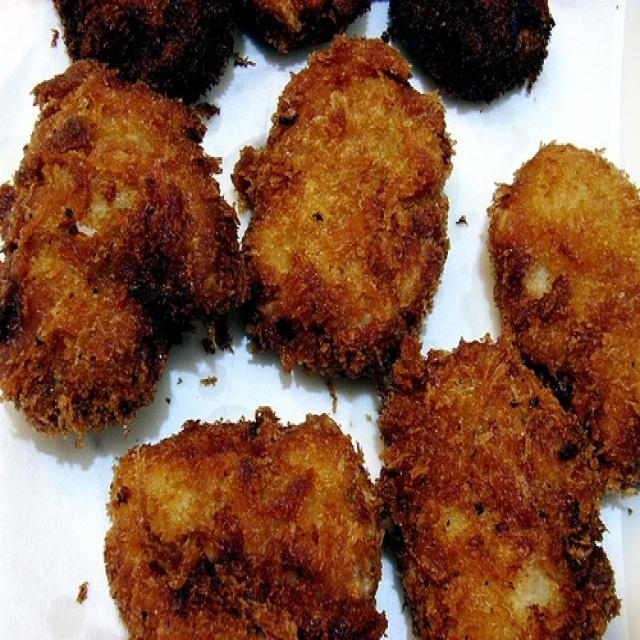牛肉菜式: (18, 34, 623, 626)
